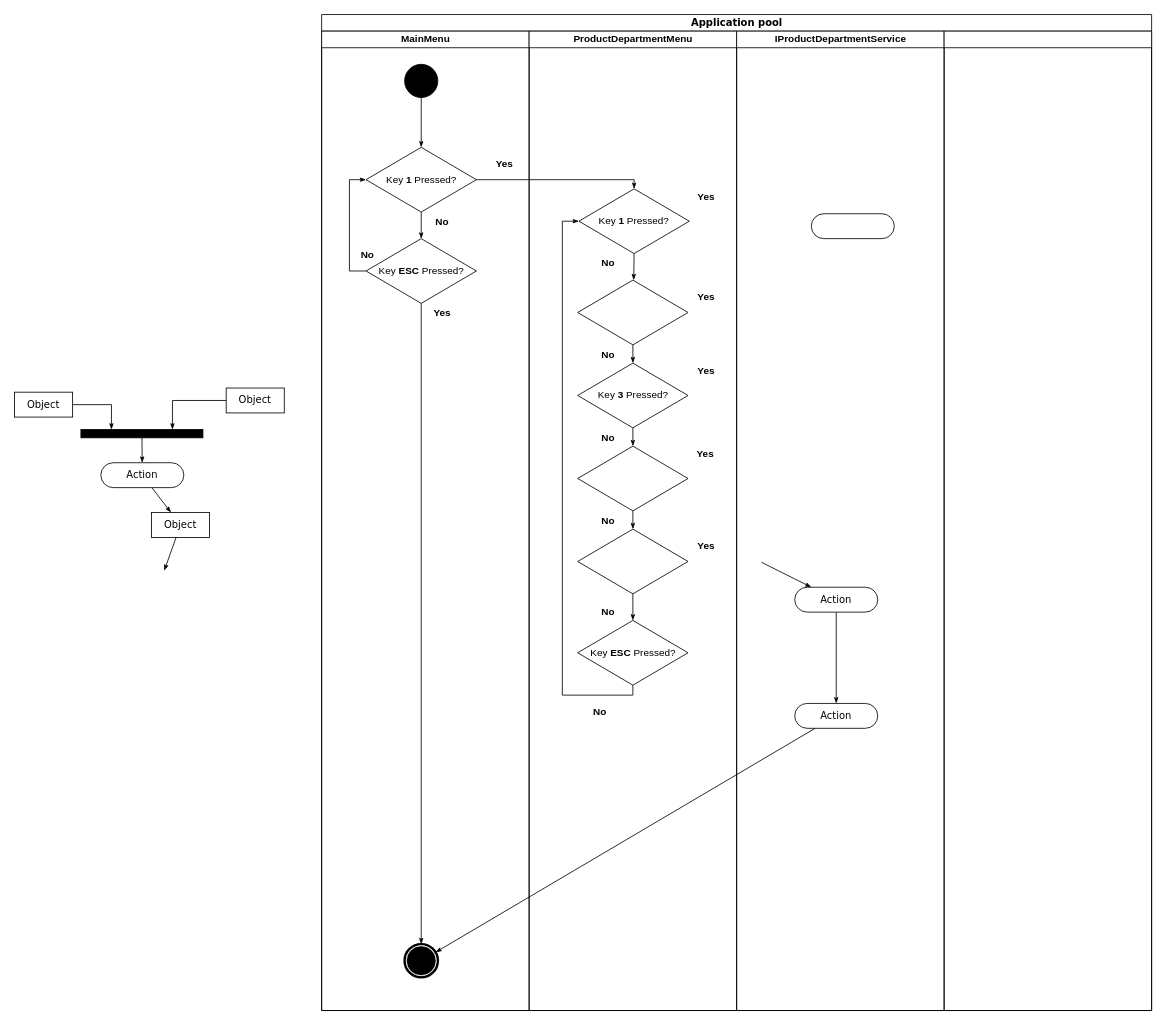
This 1166x1025 diagram has some shape labels left out. The shapes that lost their labels are listed below. From the top down, each one's centre as x and y in pixels, then its label:
point (852, 226): Get products
point (632, 312): Key 2 Pressed?
point (632, 478): Key 4 Pressed?
point (1047, 520): IRepository
point (632, 561): Key 5 Pressed?
